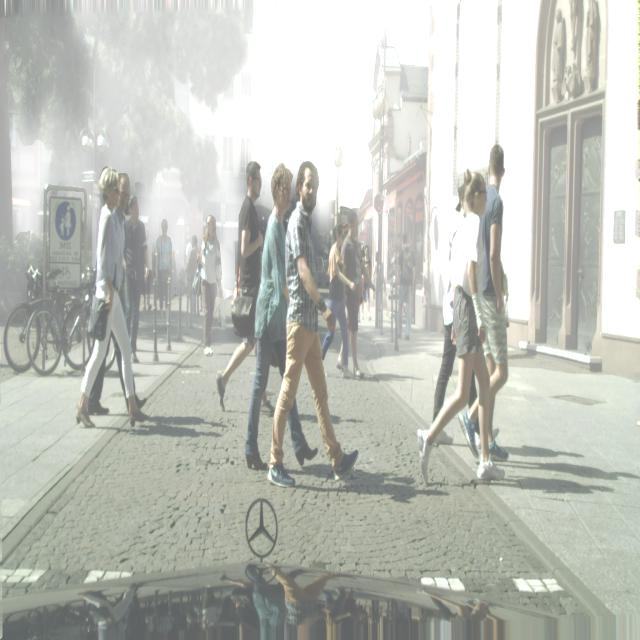car: (27, 269, 93, 375), (2, 262, 43, 372)
person: (266, 161, 361, 487), (419, 170, 502, 488), (75, 168, 150, 431), (244, 166, 294, 472), (216, 163, 265, 416), (476, 143, 510, 465), (321, 223, 355, 372), (123, 194, 146, 361), (342, 212, 365, 379), (200, 214, 223, 356), (396, 231, 414, 341), (156, 219, 174, 312), (143, 223, 155, 311)
